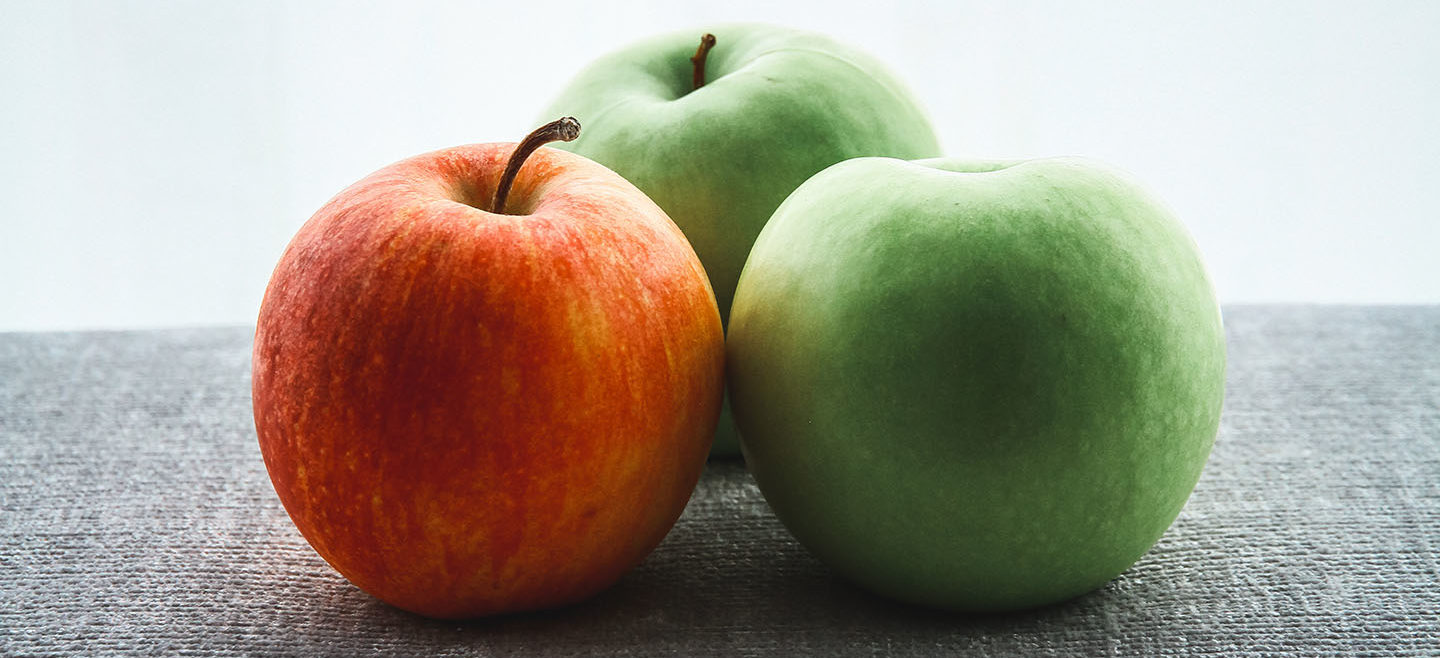Apple: (710, 117, 1239, 617), (208, 87, 700, 592)
